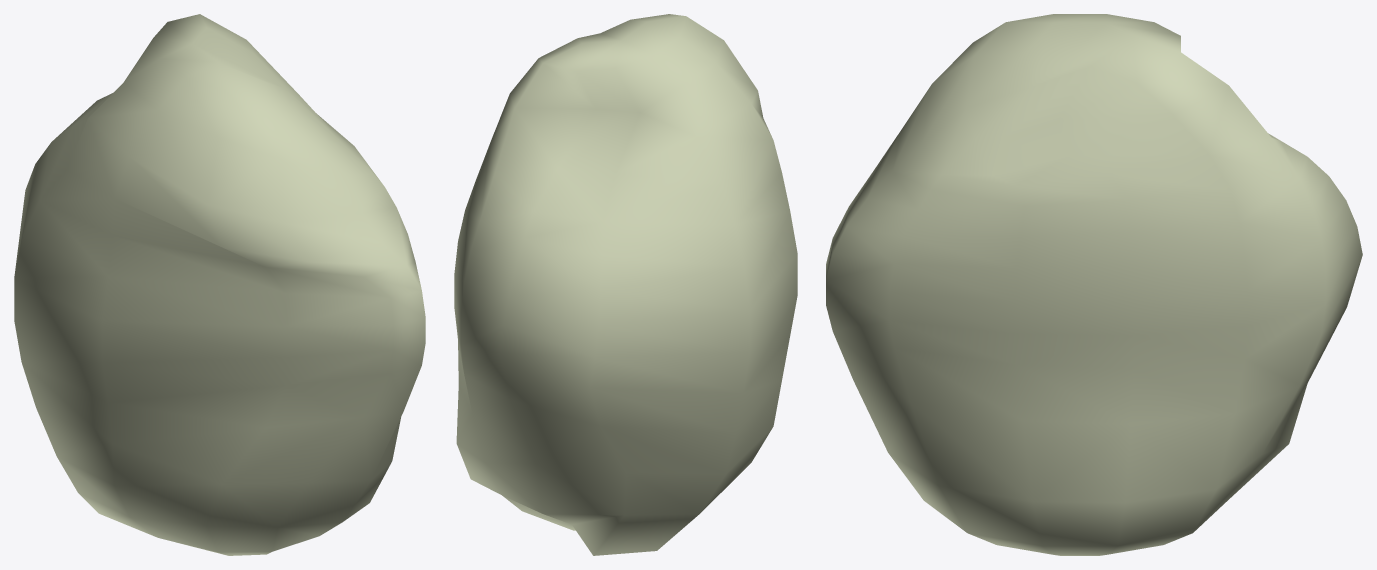
The model's file is sAsteroid2_coll.obj.
The picture shows the model from 3 angles, left to right: view 1: azimuth 30°, elevation 25°; view 2: azimuth 150°, elevation 25°; view 3: azimuth 270°, elevation 25°; orthographic projection. The views are drawn at different scales.
Parts seen in each view (by area): view 1: sphere1; view 2: sphere1; view 3: sphere1.
Boxes of the visible parts, bbox=[...] form: sphere1: bbox=[14, 14, 425, 555]; sphere1: bbox=[454, 14, 797, 555]; sphere1: bbox=[826, 14, 1362, 555].
Bounding box in the file's own units: 1.25 × 1.91 × 1.87.
